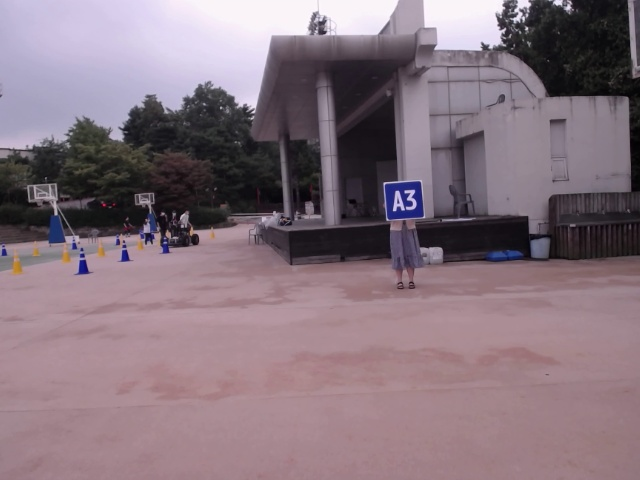delivery_a3: (384, 181, 425, 220)
